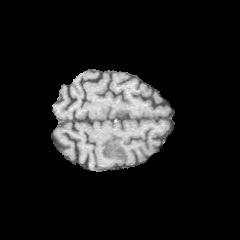glioma: (102, 139, 126, 163)
